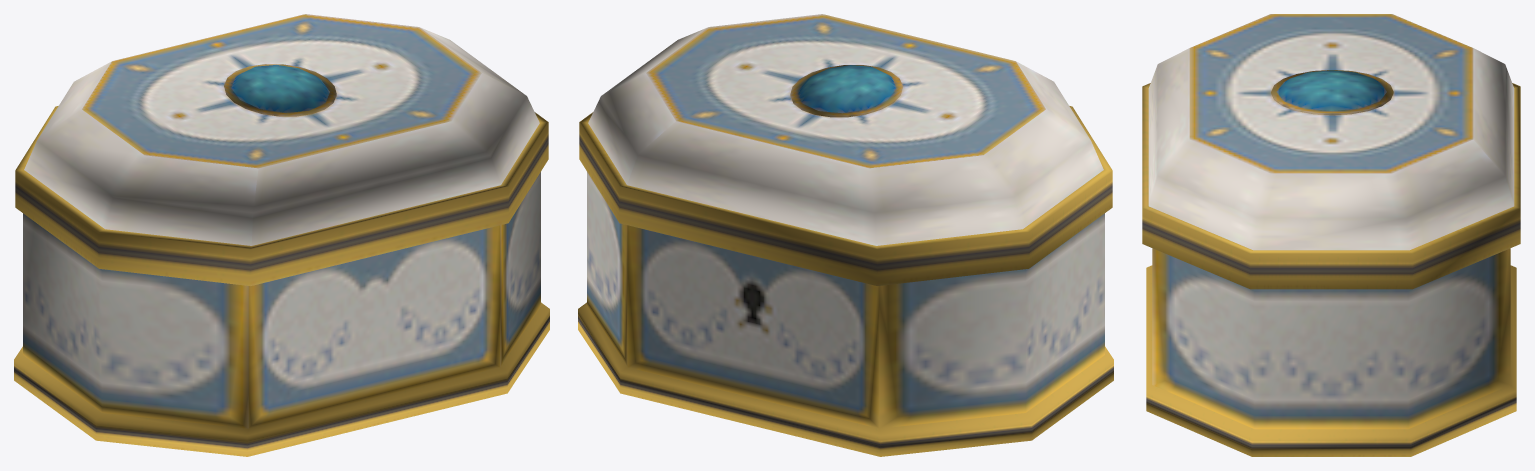
Rendered from SAVE.ICO.obj.
3 renders of one model, left to right at view 1: azimuth 30°, elevation 25°; view 2: azimuth 150°, elevation 25°; view 3: azimuth 270°, elevation 25°, orthographic. The views are drawn at different scales.
Bounding box in the file's own units: 2.16 × 1.25 × 1.61.
Materials: 1 (1 with a texture image).
